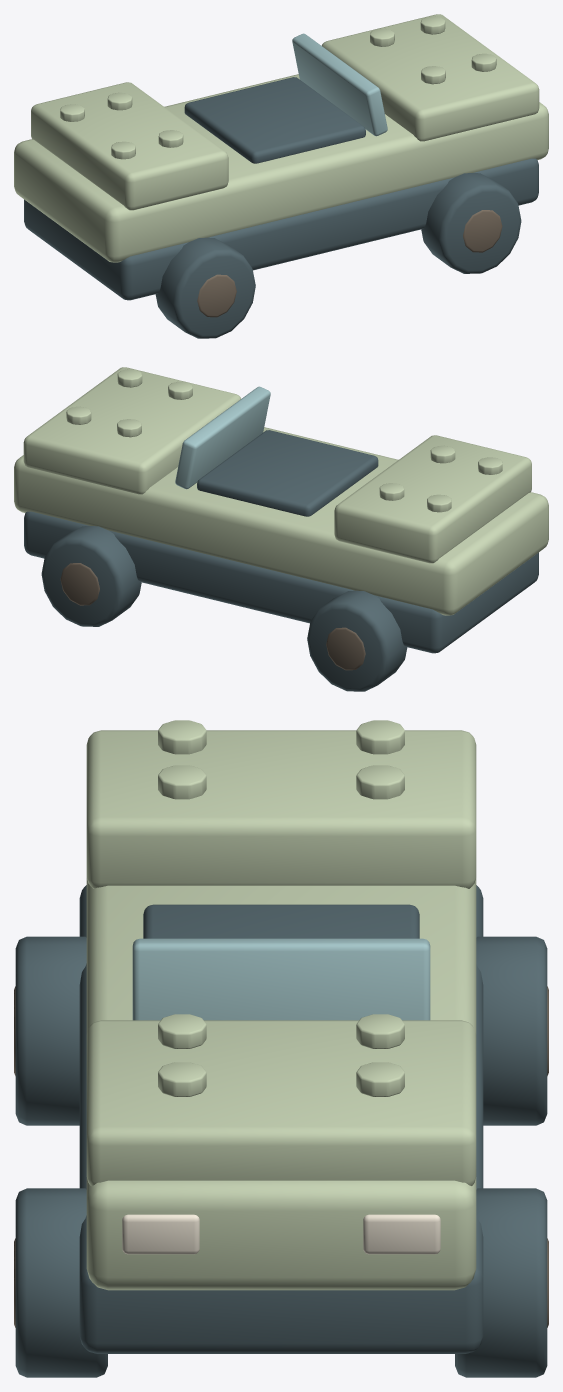
File: brick-roadster.glb
3 renders of one model, top to bottom at view 1: azimuth 30°, elevation 25°; view 2: azimuth 150°, elevation 25°; view 3: azimuth 270°, elevation 25°, orthographic. The views are drawn at different scales.
Visible parts, largest first — view 1: brick-roadster; view 2: brick-roadster; view 3: brick-roadster.
Part boxes in pixels (left/top/right/bottom): brick-roadster: left=14, top=14, right=548, bottom=338; brick-roadster: left=14, top=367, right=548, bottom=691; brick-roadster: left=14, top=720, right=548, bottom=1377.
Bounding box in the file's own units: 0.28 × 0.11 × 0.15.
